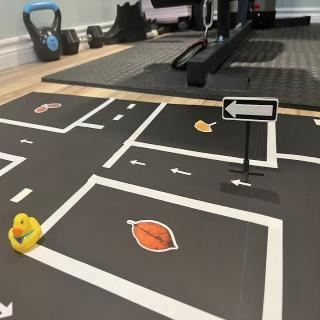duck_regular: (8, 215, 45, 257)
road_oneway: (167, 165, 195, 181), (1, 296, 19, 320), (128, 158, 150, 170), (231, 177, 253, 189), (19, 138, 36, 148)
sign_oneway_left: (223, 96, 280, 124)
